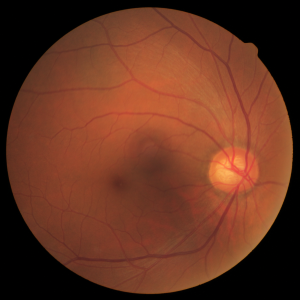glaucoma: (86, 105, 269, 227)
